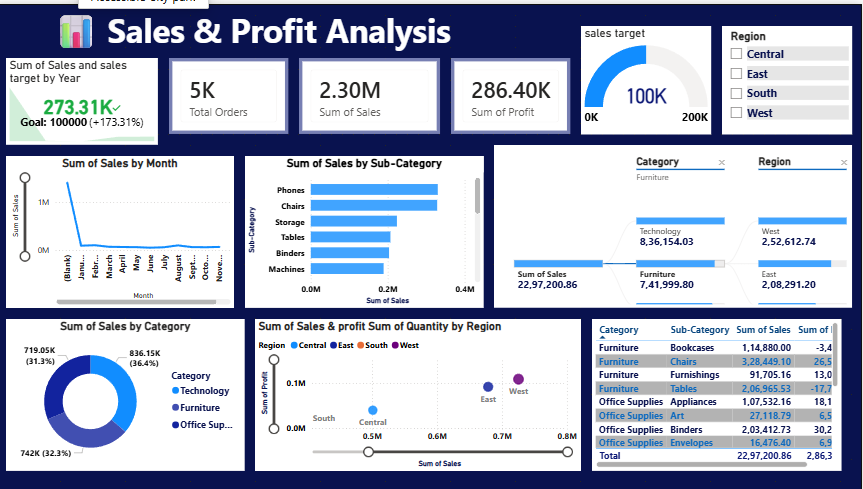

Layout of this report page (visuals, bound fields, positions):
{"tool":"powerbi","page":{"name":"Page 1","canvas":[1280,720],"ordinal":0},"visuals":[{"type":"cardVisual","fields":{"Data":["Sum(Sample - Superstore.Profit)"]},"box":[672,80,176,112],"z":0},{"type":"cardVisual","fields":{"Data":["Sum(Sample - Superstore.Sales)"]},"box":[448,80,208,112],"z":1000},{"type":"cardVisual","fields":{"Data":["Financials.Total Orders"]},"box":[256,80,176,112],"z":2000},{"type":"lineChart","fields":{"Y":["Sum(Sample - Superstore.Sales)"],"Category":["Sample - Superstore.Order Date.Variation.Date Hierarchy.Month"]},"box":[16,224,336,224],"z":3000},{"type":"barChart","title":"       Sum of Sales by Sub-Category","fields":{"Y":["Sum(Sample - Superstore.Sales)"],"Category":["Sample - Superstore.Sub-Category"]},"box":[368,224,352,224],"z":4000},{"type":"donutChart","fields":{"Category":["Sample - Superstore.Category"],"Y":["Sum(Sample - Superstore.Sales)"]},"box":[16,464,352,224],"z":5000},{"type":"scatterChart","title":"Sum of Sales & profit Sum of Quantity by Region","fields":{"X":["Sum(Sample - Superstore.Sales)"],"Series":["Sample - Superstore.Region"],"Y":["Sum(Sample - Superstore.Profit)"],"Size":["Sum(Sample - Superstore.Quantity)"]},"box":[384,464,480,224],"z":6000},{"type":"tableEx","fields":{"Values":["Sample - Superstore.Category","Sample - Superstore.Sub-Category","Sum(Sample - Superstore.Sales)","Sum(Sample - Superstore.Profit)"]},"box":[880,464,368,224],"z":7000},{"type":"slicer","fields":{"Values":["Sample - Superstore.Region"]},"box":[1072,32,192,160],"z":8000},{"type":"decompositionTreeVisual","fields":{"Analyze":["Sum(Sample - Superstore.Sales)"],"ExplainBy":["Sample - Superstore.Category","Sample - Superstore.Region"]},"box":[736,208,528,240],"z":9000},{"type":"gauge","fields":{"Y":["Financials.sales target"]},"box":[864,32,192,160],"z":10000},{"type":"textbox","box":[16,0,832,80],"z":11000},{"type":"kpi","fields":{"Indicator":["Sum(Sample - Superstore.Sales)"],"Goal":["Financials.sales target"],"TrendLine":["Sample - Superstore.Order Date.Variation.Date Hierarchy.Year"]},"box":[16,80,224,128],"z":12000}]}

Visuals, with their boxes in screenshot pixels (x1, y1, x2, y2), scaled from the page's 1280x720 canvas onto the 863x489 screenshot:
cardVisual - Sum(Sample - Superstore.Profit): bbox(453, 54, 572, 130)
cardVisual - Sum(Sample - Superstore.Sales): bbox(302, 54, 442, 130)
cardVisual - Financials.Total Orders: bbox(173, 54, 291, 130)
lineChart - Sum(Sample - Superstore.Sales) x Sample - Superstore.Order Date.Variation.Date Hierarchy.Month: bbox(11, 152, 237, 304)
"       Sum of Sales by Sub-Category" barChart: bbox(248, 152, 485, 304)
donutChart - Sample - Superstore.Category x Sum(Sample - Superstore.Sales): bbox(11, 315, 248, 467)
"Sum of Sales & profit Sum of Quantity by Region" scatterChart: bbox(259, 315, 583, 467)
tableEx - Sample - Superstore.Category x Sample - Superstore.Sub-Category: bbox(593, 315, 841, 467)
slicer - Sample - Superstore.Region: bbox(723, 22, 852, 130)
decompositionTreeVisual - Sum(Sample - Superstore.Sales) x Sample - Superstore.Category: bbox(496, 141, 852, 304)
gauge - Financials.sales target: bbox(583, 22, 712, 130)
textbox: bbox(11, 0, 572, 54)
kpi - Sum(Sample - Superstore.Sales) x Financials.sales target: bbox(11, 54, 162, 141)
